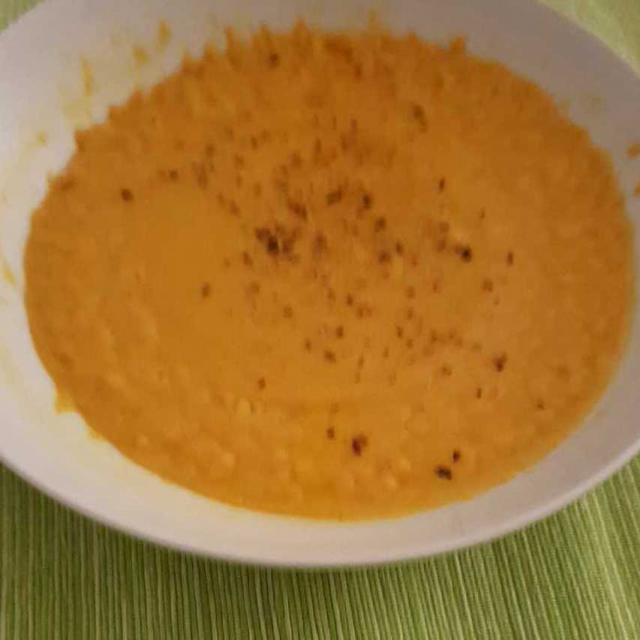soup-of-lentils-dahl-dhal: (36, 30, 625, 519)
